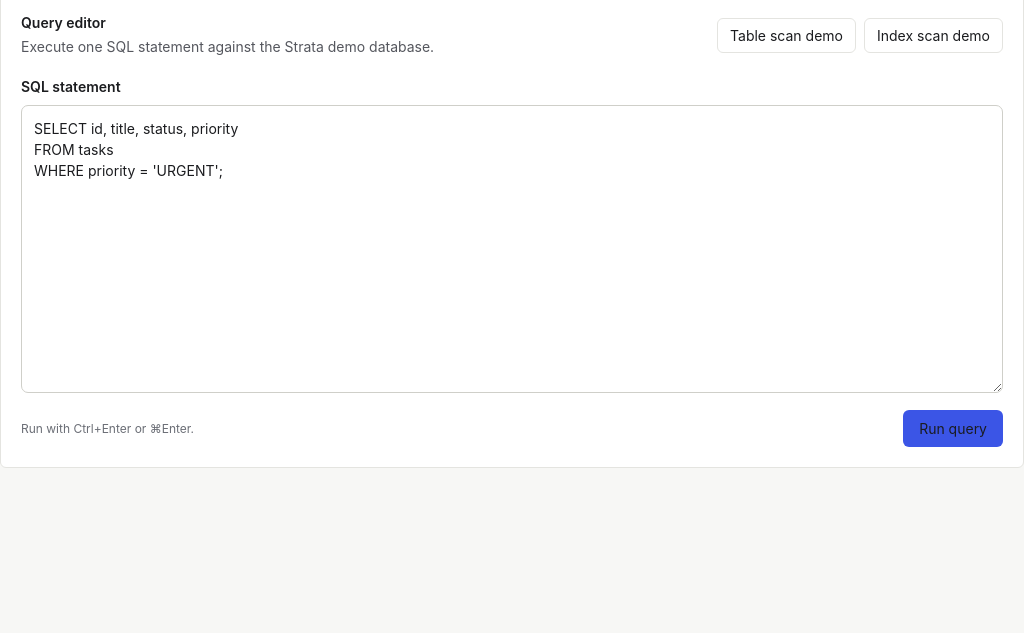
Test: SqlConsolePage › labels retained query output as previous while edited, running, and after an error
Click the button "Run query" at (953, 429), box 903,410 -> 1003,447
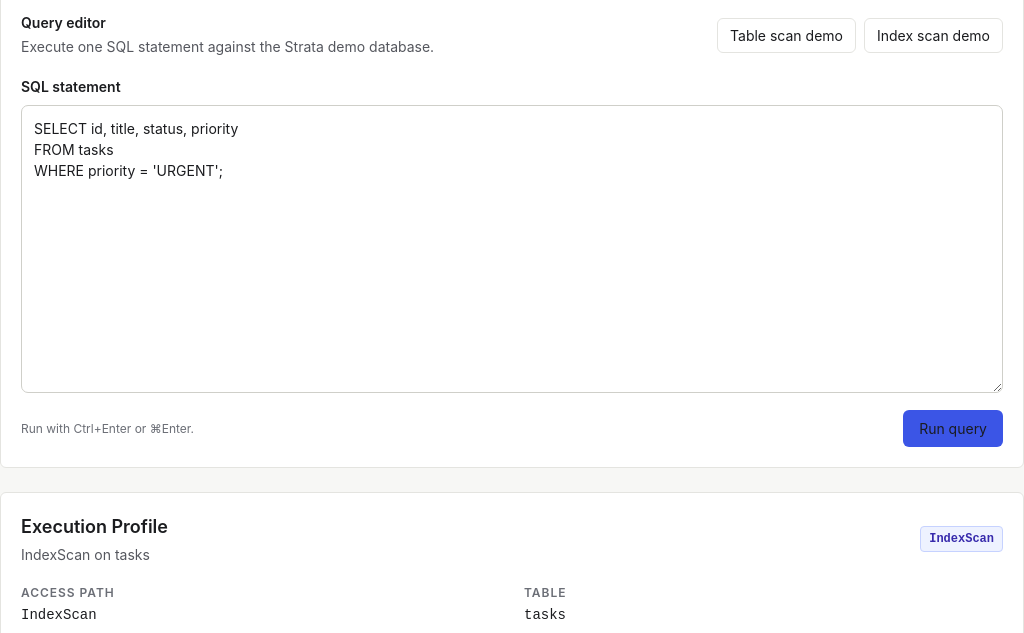
Replace the text in the text box labelled "SQL statement" with "SELECT id FROM tasks" at (512, 249), box 21,105 -> 1003,393
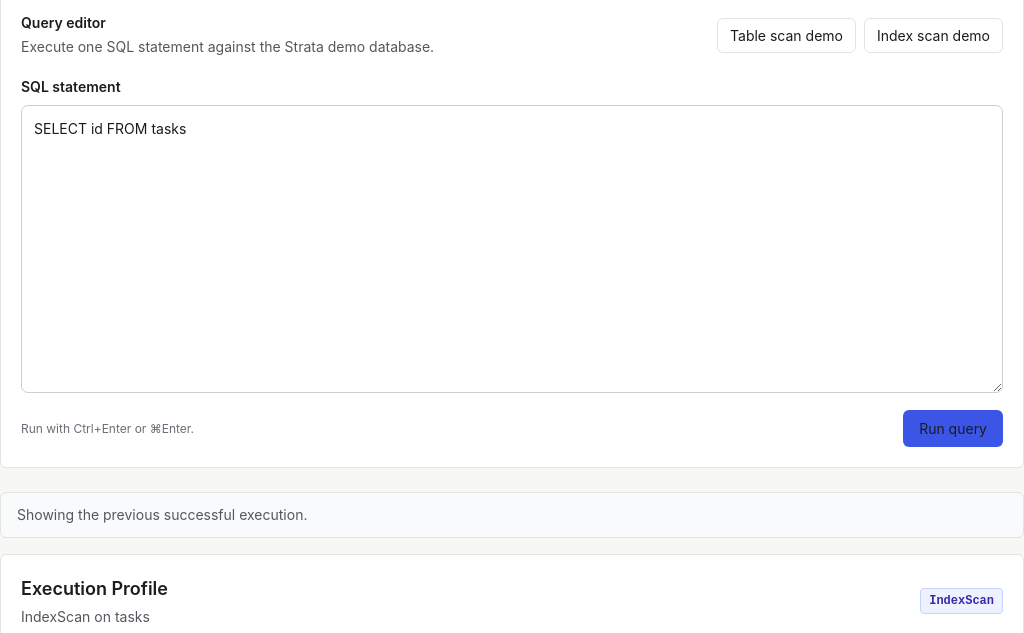
Expected: the text "Showing the previous successful execution." is shown, 0,492 -> 1023,538
Click the button "Run query" at (953, 429), box 903,410 -> 1003,447
(page scrolled)
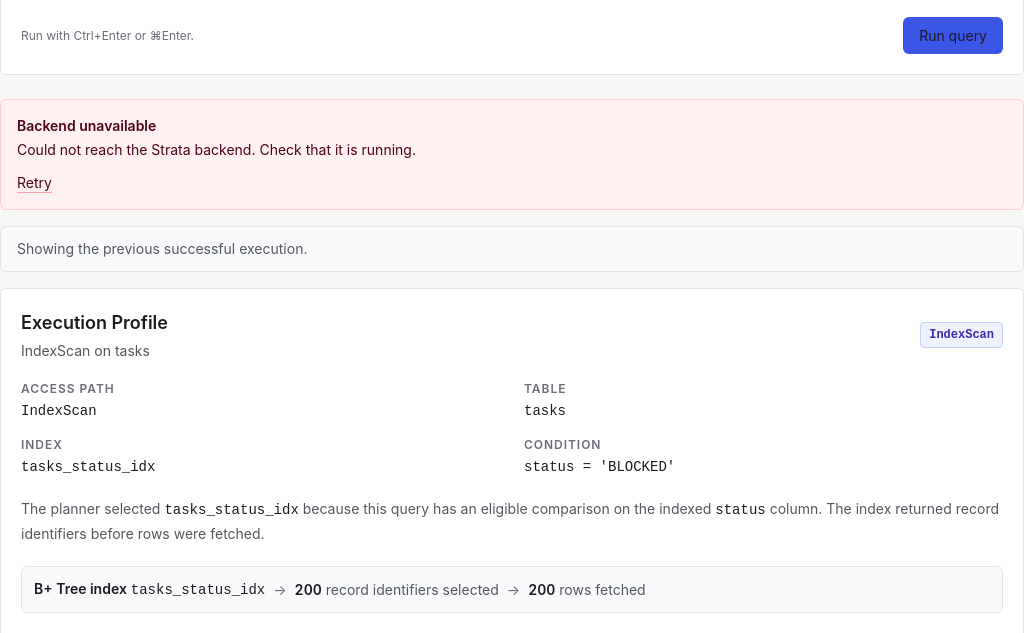
Expected: the text "tasks_status_idx" next to "status = 'BLOCKED'" is shown, 21,459 -> 155,475
Expected: the text "Showing the previous successful execution." is shown, 0,226 -> 1023,272
Expected: the message shows "Backend unavailable", 17,117 -> 156,134
